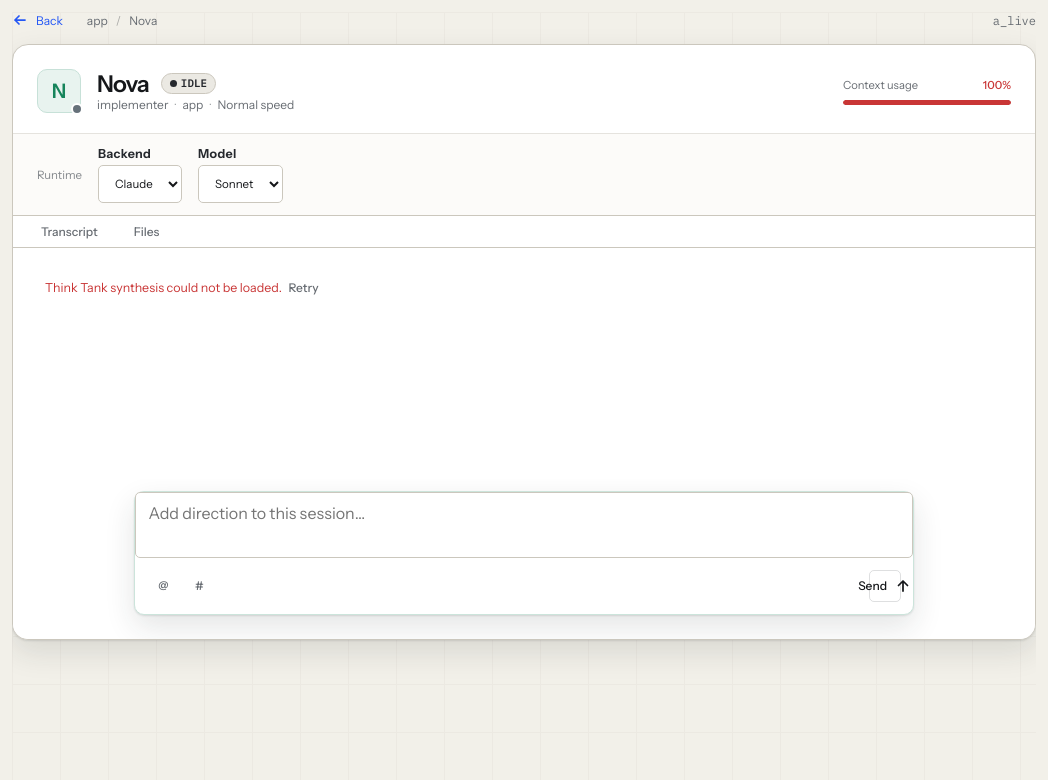
Test: ChatPanel runtime picker › keeps the active model and shows the provider's policy reason when a model is refused (FS-09.A48)
Select "Opus" in the dropdown labelled "Model" at coordinates (240, 184), box [198,165,283,203]
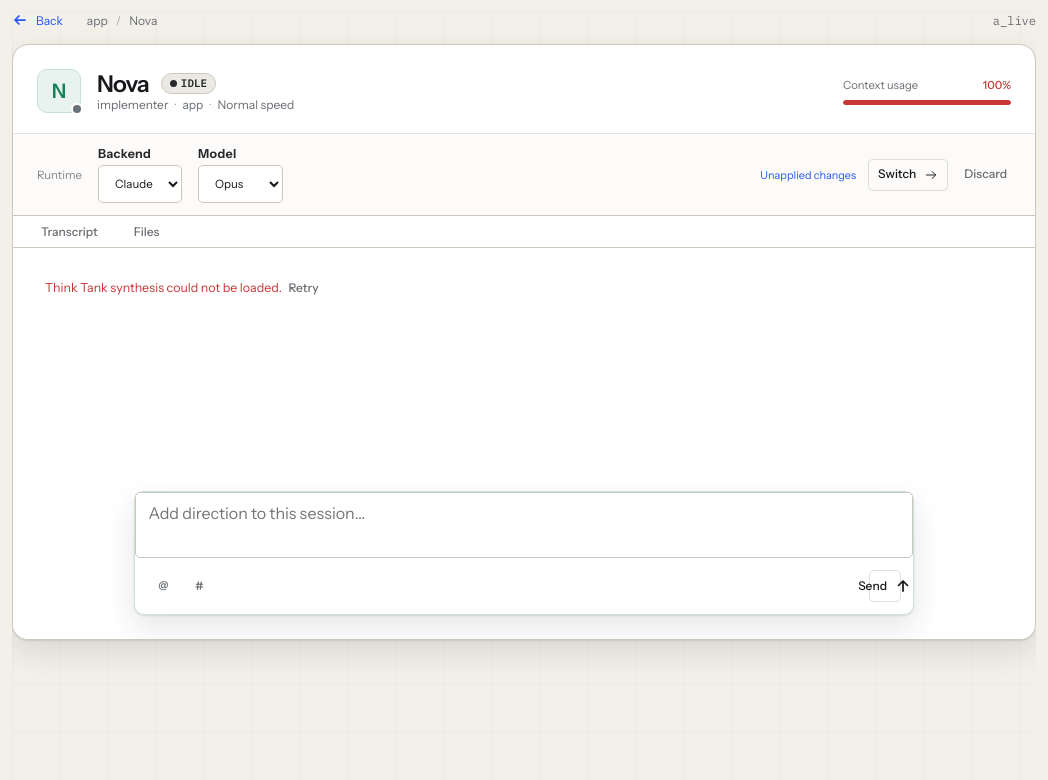
Click the button "Switch" at coordinates (908, 174), box [868,158,948,190]
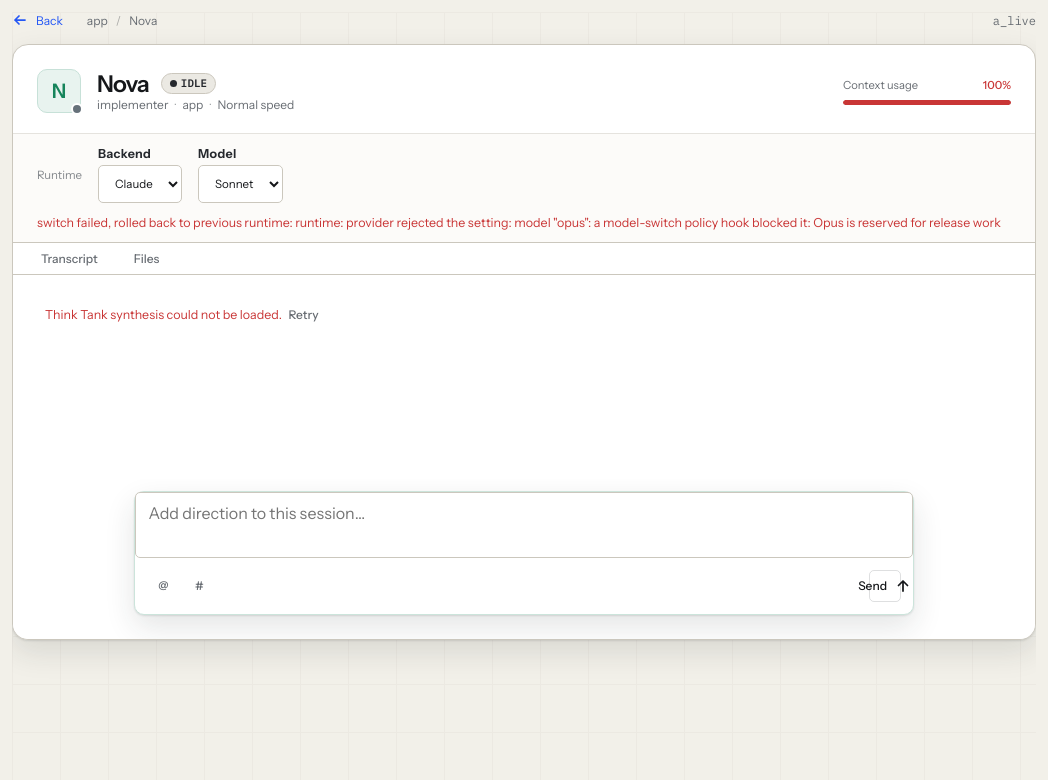
Expected: the 1st message shows "Opus is reserved for release work", [37,215,1001,230]
